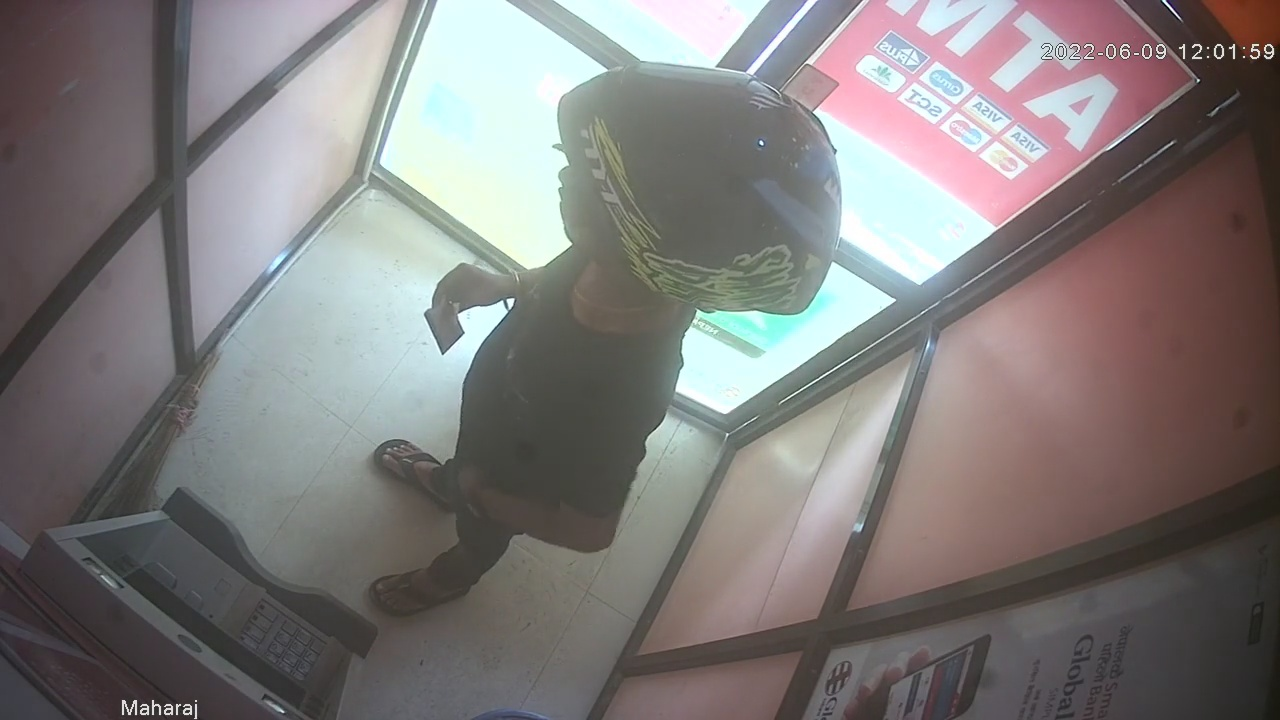helmet: (557, 61, 844, 315)
person: (369, 60, 843, 616)
